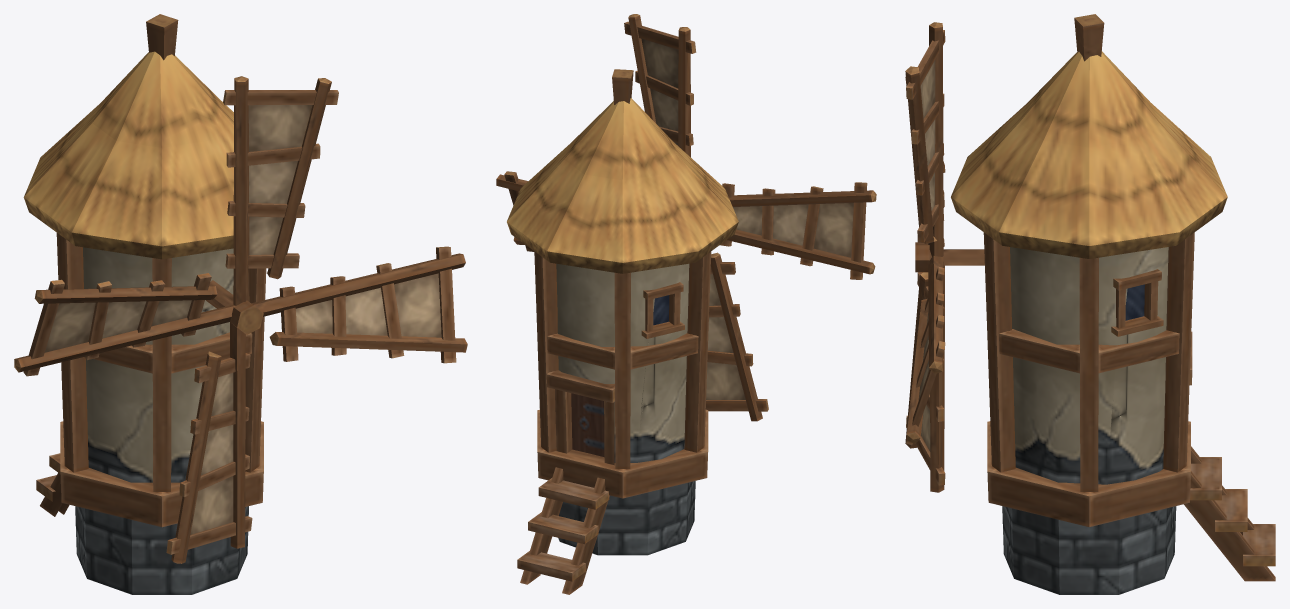
Rendered from tadangal_house_4.FBX.
3 renders of one model, left to right at view 1: azimuth 30°, elevation 25°; view 2: azimuth 150°, elevation 25°; view 3: azimuth 270°, elevation 25°, orthographic. The views are drawn at different scales.
Parts seen in each view (by area): view 1: Windmill003, Wheel002; view 2: Windmill003, Wheel002; view 3: Windmill003, Wheel002.
Boxes of the visible parts, x1,y1,x2,y2 form: Windmill003: (23,14,266,594); Wheel002: (14,76,467,563); Windmill003: (507,69,738,594); Wheel002: (496,14,876,421); Windmill003: (951,14,1275,594); Wheel002: (905,22,984,492).
Bounding box in the file's own units: 124 × 88.44 × 144.
